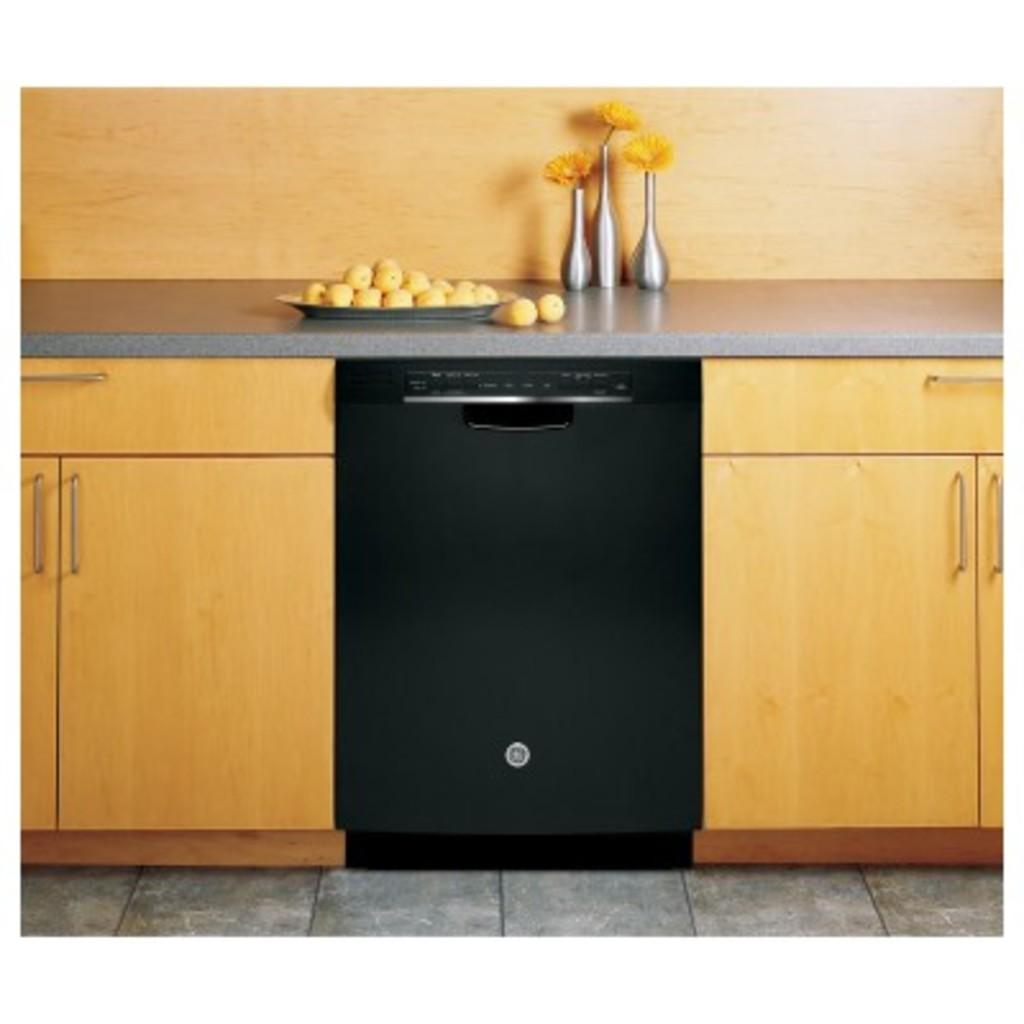cabinet_door: (63, 462, 329, 828), (711, 458, 975, 818), (24, 356, 330, 454), (705, 356, 1001, 454), (19, 454, 59, 818), (974, 465, 1008, 816)
handle: (920, 358, 1014, 406), (950, 470, 976, 584), (63, 472, 89, 576), (986, 470, 1010, 580), (24, 366, 107, 396), (28, 475, 50, 580)
